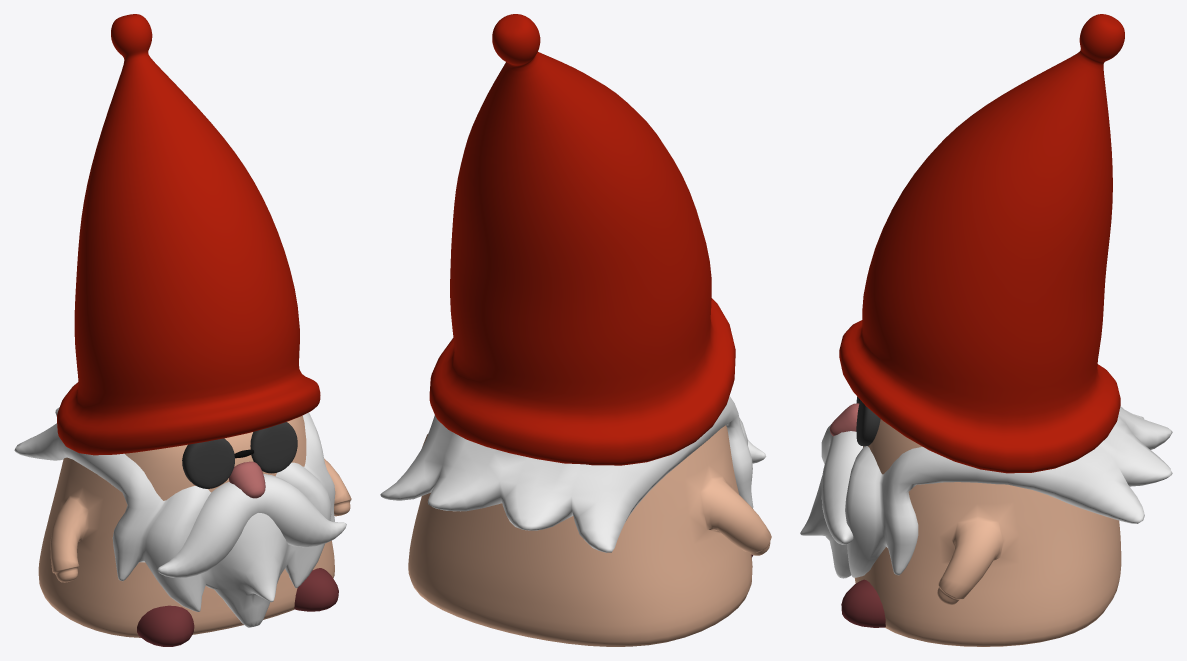
Rendered from Gnome.fbx.
3 views of the same model, side by side, from view 1: azimuth 30°, elevation 25°; view 2: azimuth 150°, elevation 25°; view 3: azimuth 270°, elevation 25° (orthographic). The views are drawn at different scales.
Parts seen in each view (by area): view 1: Cylinder.002, Cube, Cylinder, Cylinder.004, Cylinder.003, Cube.009, Cube.007; view 2: Cylinder.002, Cube, Cylinder; view 3: Cylinder.002, Cube, Cylinder, Cylinder.004, Cube.009, Cylinder.003, Cube.007.
Boxes of the visible parts, box(x1,y1,x2,y2) form: Cylinder.002: box(57, 14, 320, 455); Cube: box(38, 415, 351, 637); Cylinder: box(14, 407, 335, 627); Cylinder.004: box(157, 474, 346, 577); Cylinder.003: box(182, 422, 297, 488); Cube.009: box(137, 568, 338, 646); Cube.007: box(229, 461, 265, 498); Cylinder.002: box(429, 14, 735, 465); Cube: box(408, 425, 771, 646); Cylinder: box(380, 396, 753, 552); Cylinder.002: box(839, 14, 1124, 473); Cube: box(854, 419, 1121, 646); Cylinder: box(800, 406, 1172, 578); Cylinder.004: box(821, 425, 862, 544); Cube.009: box(841, 579, 885, 627); Cylinder.003: box(856, 396, 880, 446); Cube.007: box(829, 403, 859, 436).
Bounding box in the file's own units: 125 × 214 × 127.
